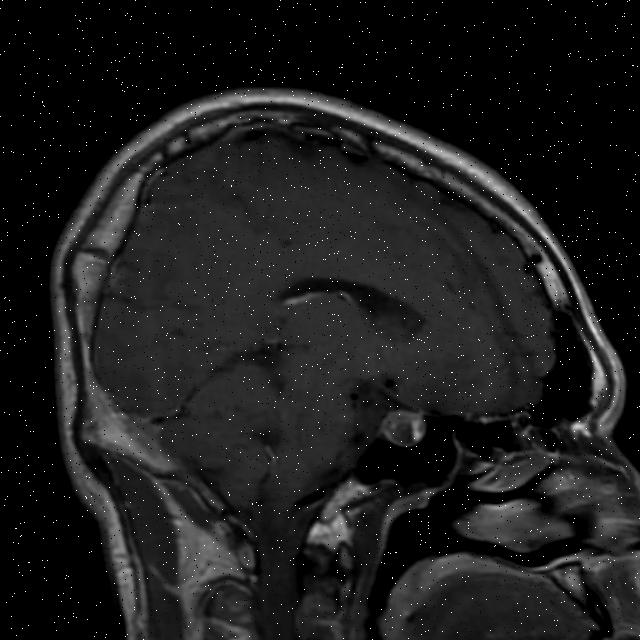Pituitary: (378, 406, 429, 448)
